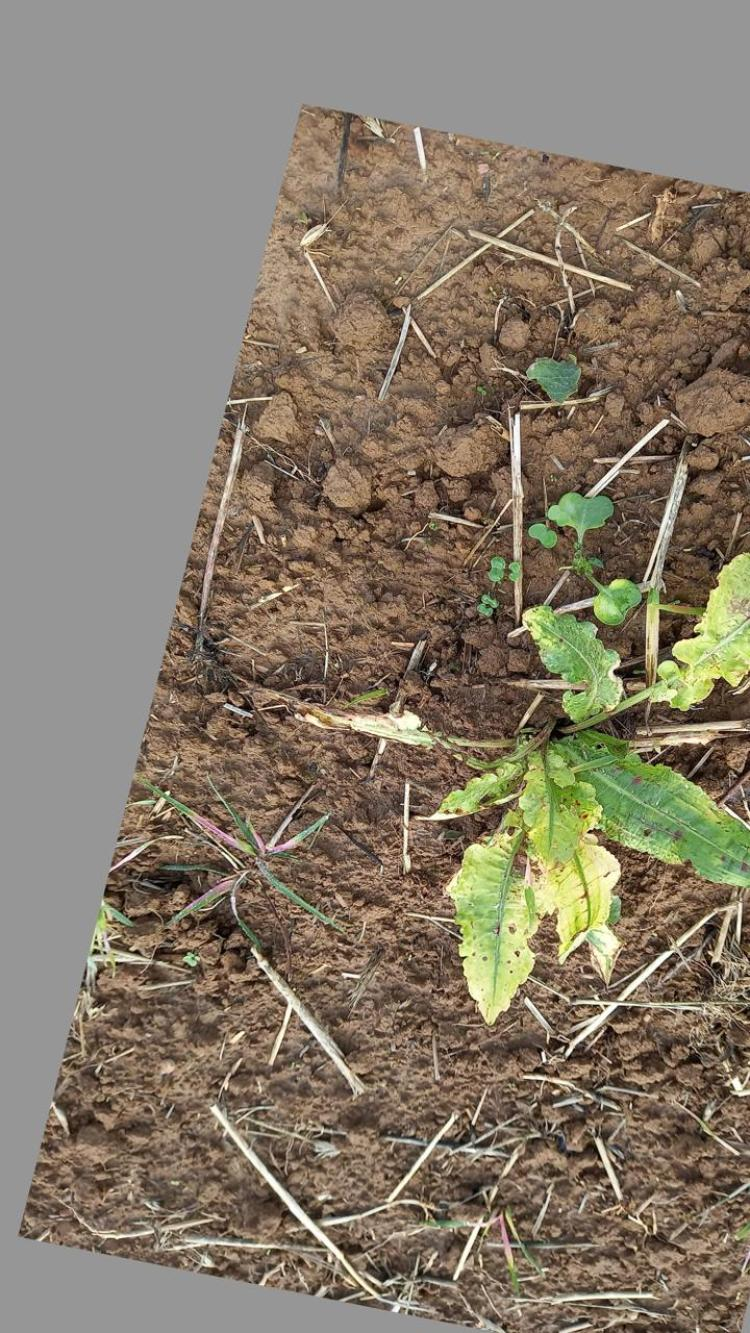zhavel: (429, 548, 750, 1029)
